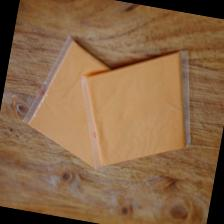cheese: (64, 30, 206, 185), (14, 26, 128, 172)
